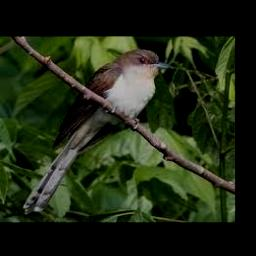Cuckoo: (23, 49, 173, 215)
